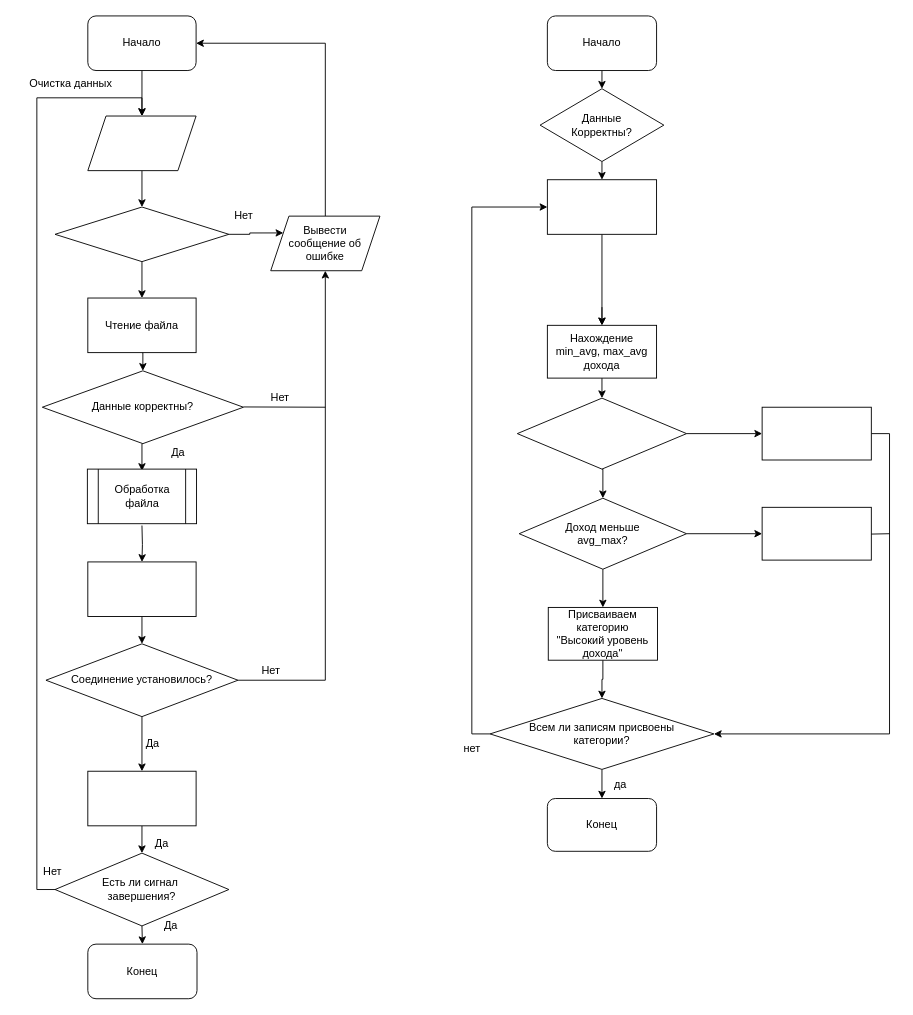
This 913x1015 diagram has some shape labels left out. Each missing label, with the centre of its shape:
Доход меньше avg_min?: point 601,433
Запись данных в БД: point 141,798
Запрос в БД: point 141,589
Источник данных: point 141,143
Источник открылся?: point 141,234
Присваиваем категорию "Низкий уровень дохода": point 816,433
Присваиваем категорию "Средний уровень дохода": point 816,533
Считывание данных: point 601,206
